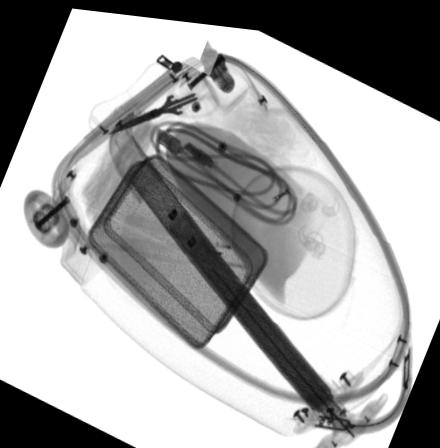Scissors: (107, 58, 219, 133)
